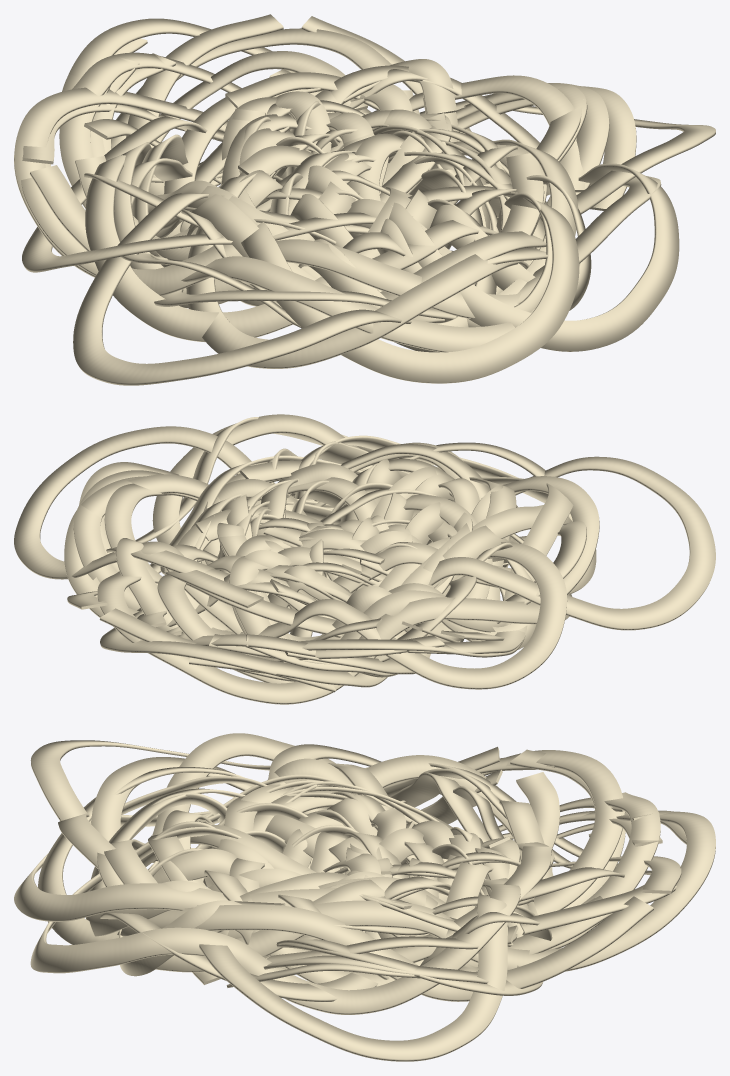
File: FOOD_pho_noodles_flat_rice.glb
The picture shows the model from 3 angles, top to bottom: view 1: azimuth 30°, elevation 25°; view 2: azimuth 150°, elevation 25°; view 3: azimuth 270°, elevation 25°; orthographic projection. The views are drawn at different scales.
Parts seen in each view (by area): view 1: NoodlesLayer; view 2: NoodlesLayer; view 3: NoodlesLayer.
Boxes of the visible parts, left/top/right/bottom form: NoodlesLayer: left=14, top=14, right=715, bottom=385; NoodlesLayer: left=14, top=414, right=715, bottom=704; NoodlesLayer: left=14, top=733, right=715, bottom=1061.
Size of the model in its own units: 0.4098 by 0.0553 by 0.3866.
